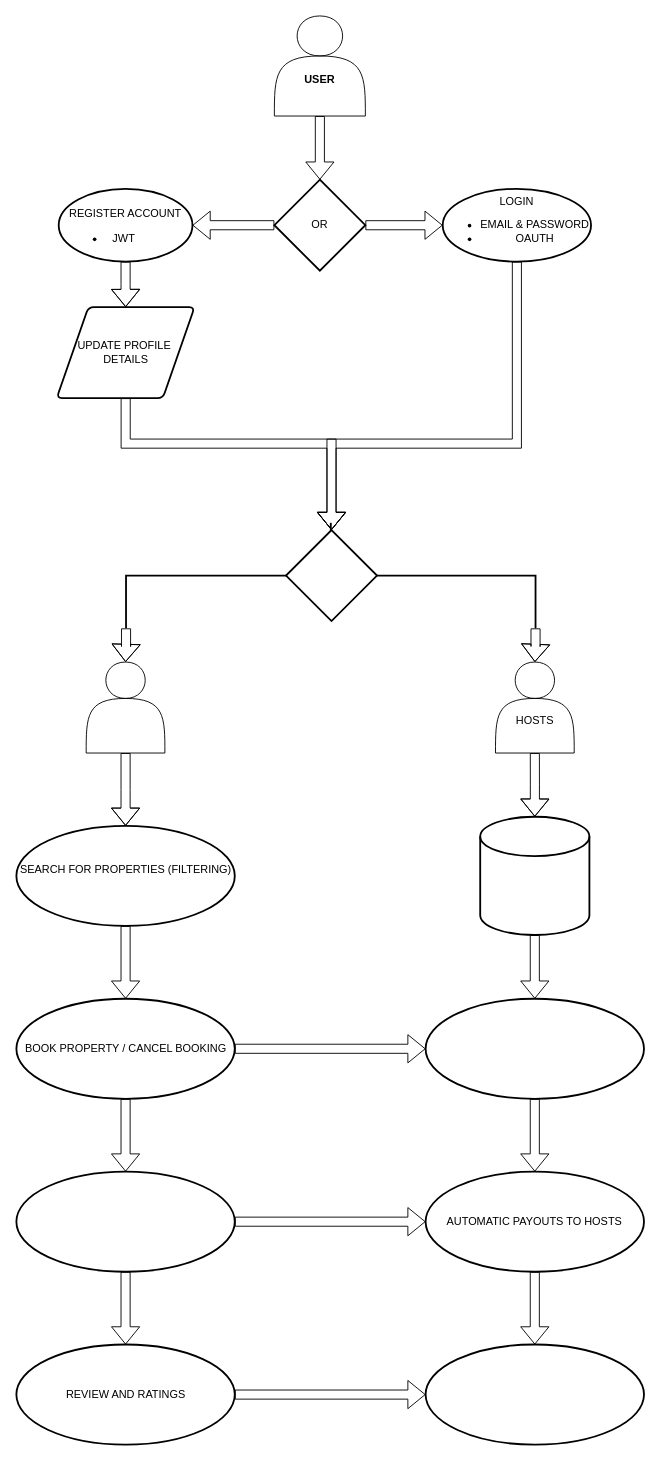
Image size: 661x1461. Some labels were removed from this diagram. Here are the shapes that lost their labels. From the top down, the centre of each, then its label:
At point 125,707: "GUESTS".
At point 534,875: "ADD / UPDATE LISTINGS".
At point 534,1048: "TRACK BOOKINGS".
At point 125,1221: "PROCESS PAYMENT".
At point 534,1394: "RESPOND TO REVIEWS".
